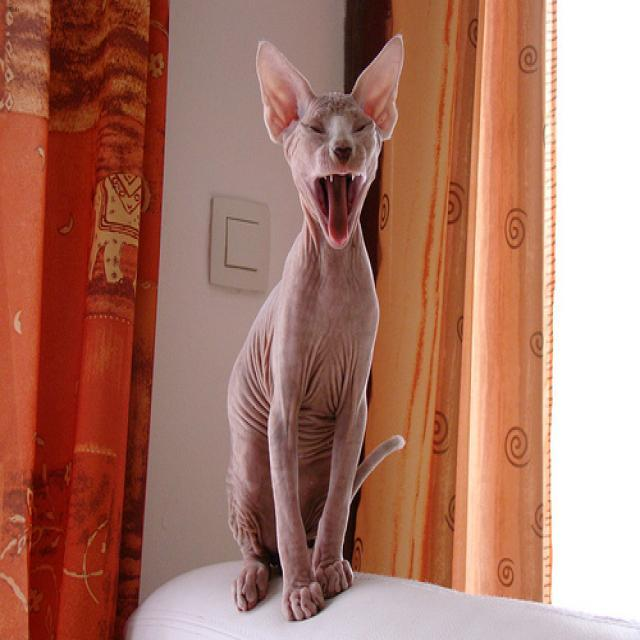Sphynx: (251, 28, 404, 249)
